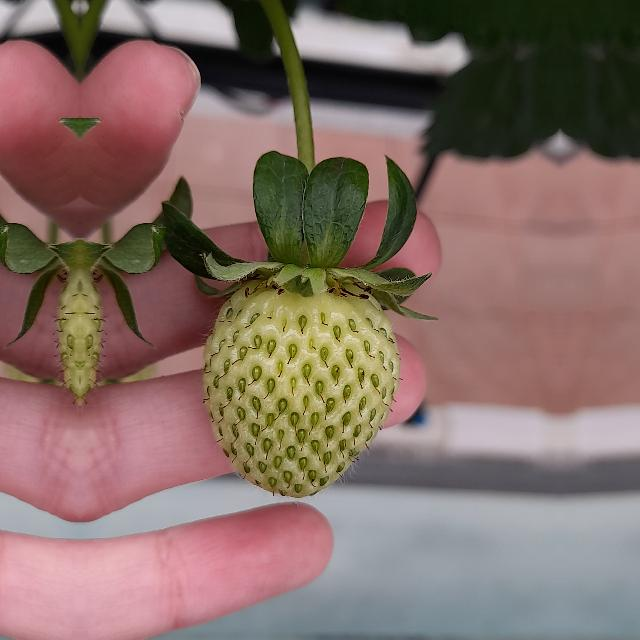Health_25: (202, 280, 400, 498)
